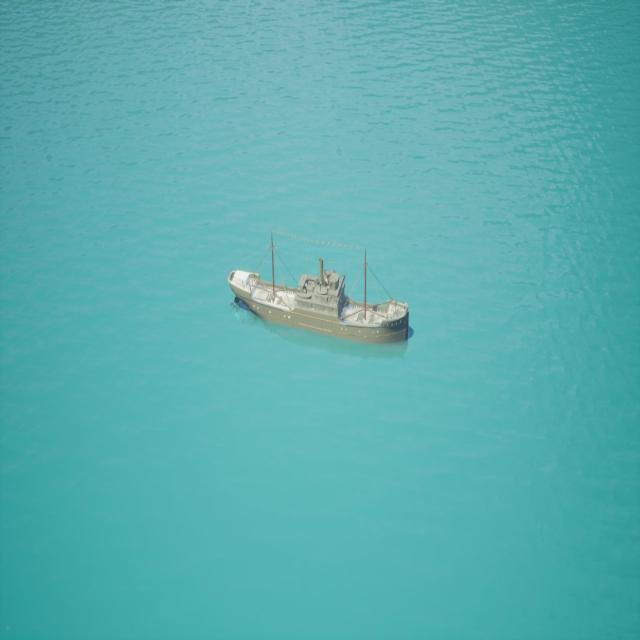fishing ship: (228, 233, 412, 351)
